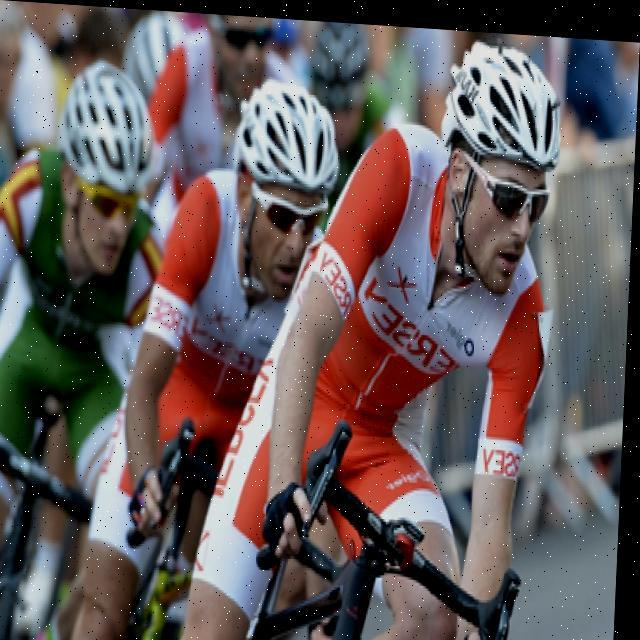With Helmet: (436, 34, 572, 298), (225, 67, 342, 301), (59, 55, 153, 272)
